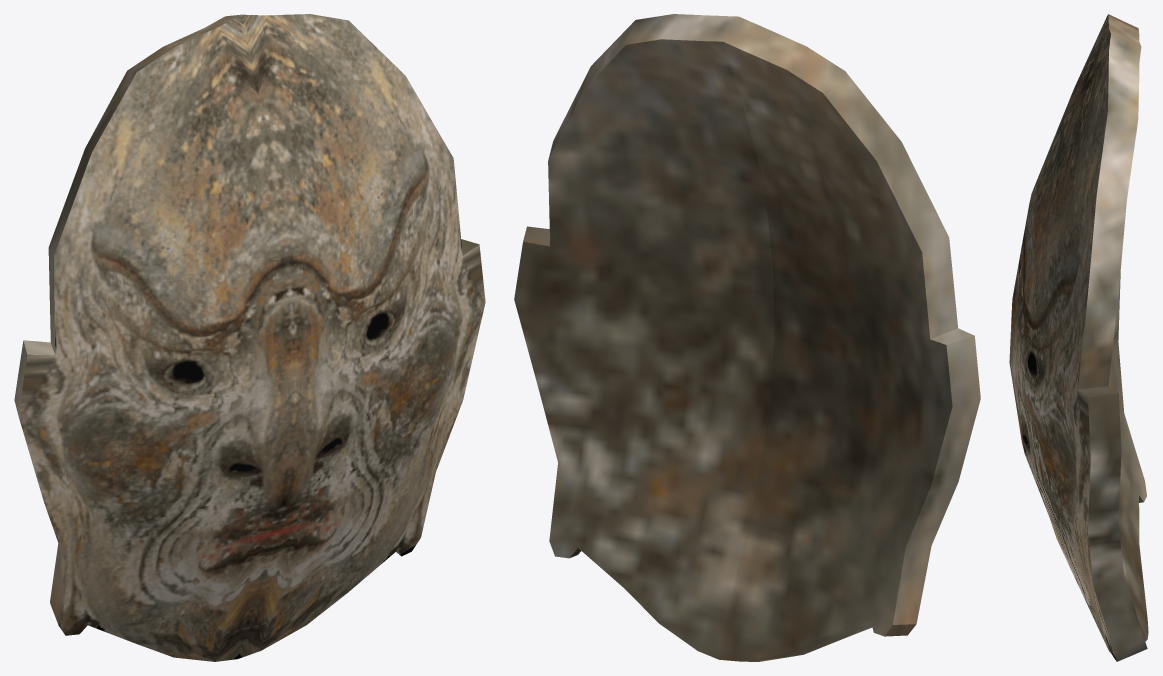
File: mask4.fbx
3 renders of one model, left to right at view 1: azimuth 30°, elevation 25°; view 2: azimuth 150°, elevation 25°; view 3: azimuth 270°, elevation 25°, orthographic. The views are drawn at different scales.
Parts seen in each view (by area): view 1: mask4; view 2: mask4; view 3: mask4.
Part boxes in pixels (<box>): mask4: <box>14,14,485,661</box>; mask4: <box>514,14,980,661</box>; mask4: <box>1009,14,1148,661</box>.
Size of the model in its own units: 13.28 by 17.57 by 3.63.
1 material, 1 textured.
